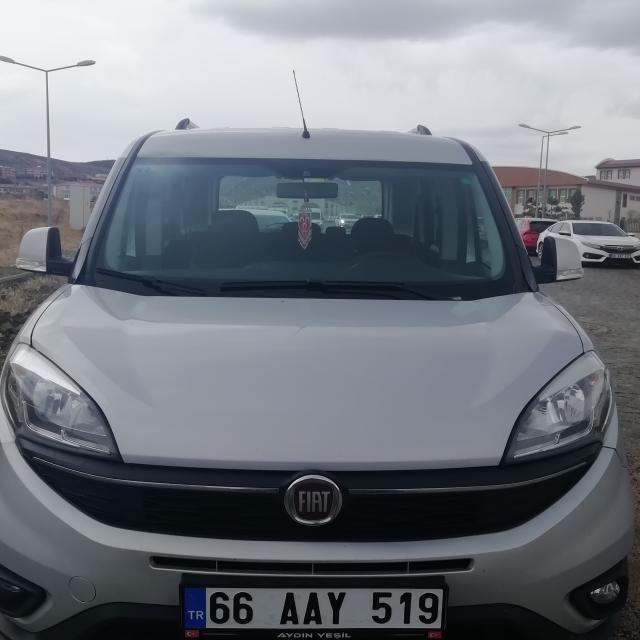license_plate: (182, 584, 448, 633)
